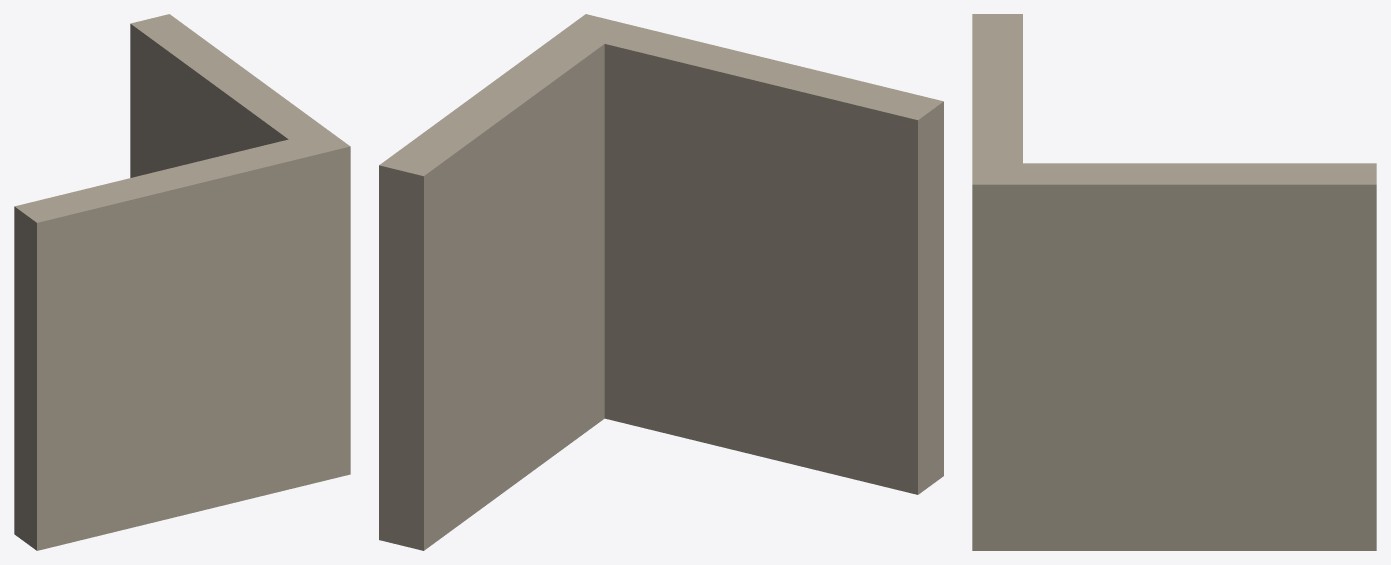
File: Village_Wall_Plaster_2m_Corner_A.fbx
The picture shows the model from 3 angles, left to right: view 1: azimuth 30°, elevation 25°; view 2: azimuth 150°, elevation 25°; view 3: azimuth 270°, elevation 25°; orthographic projection. The views are drawn at different scales.
Visible parts, largest first — view 1: Village_Wall_2m_Corner_A.004; view 2: Village_Wall_2m_Corner_A.004; view 3: Village_Wall_2m_Corner_A.004.
Part boxes in pixels (bbox=[...]): Village_Wall_2m_Corner_A.004: bbox=[14, 14, 350, 550]; Village_Wall_2m_Corner_A.004: bbox=[379, 14, 943, 550]; Village_Wall_2m_Corner_A.004: bbox=[972, 14, 1376, 550].
Size of the model in its own units: 200 by 200 by 200.
